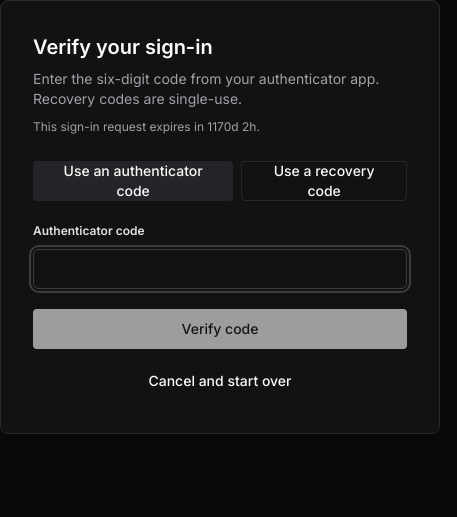
it: MfaChallengePanel › uses the existing 60-second fallback when Retry-After is not-a-number
The width and height of the screenshot is (457, 517).
Type "123456" into the field labelled "Authenticator code" at (220, 269), box top-left (33, 249), bottom-right (407, 289)
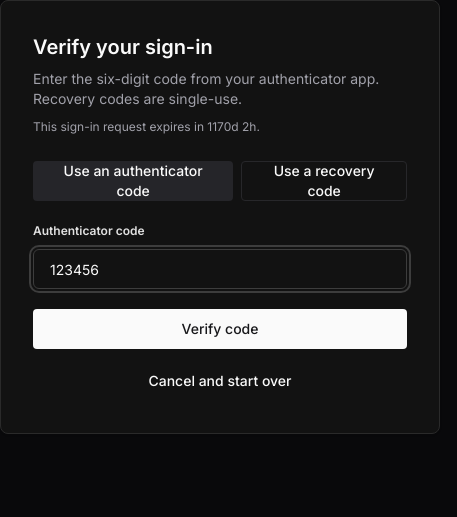
Click the button "Verify code" at (220, 329), box top-left (33, 309), bottom-right (407, 349)
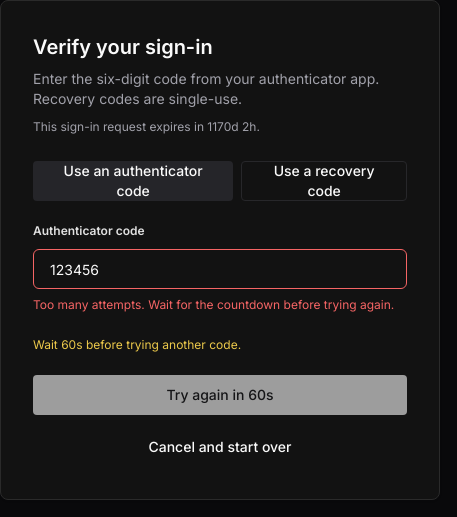
expect the button "Try again in 60s" is disabled: met, box top-left (33, 375), bottom-right (407, 415)
